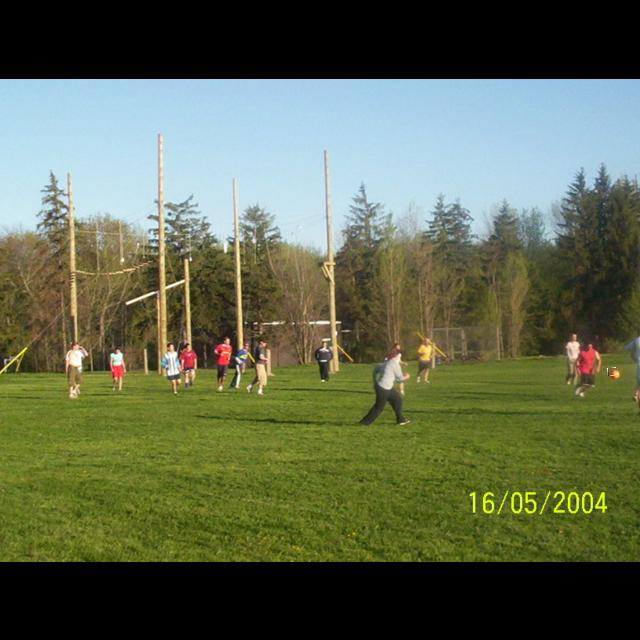Football: (608, 368, 618, 376)
